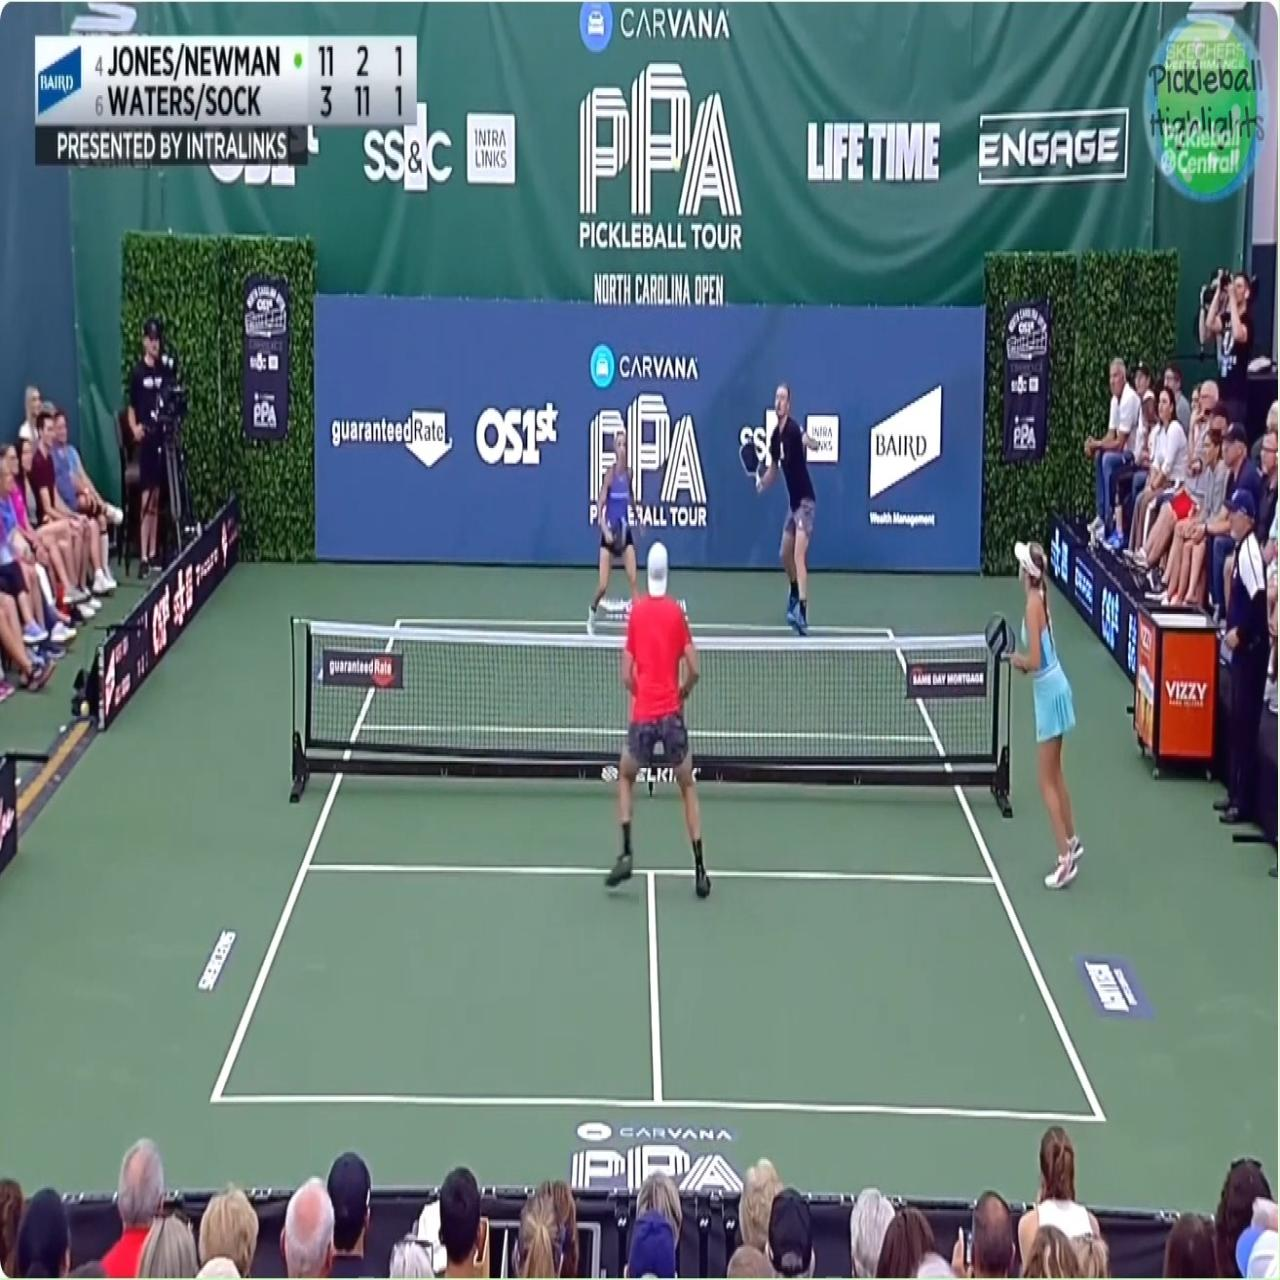pickleball: (673, 157, 681, 171)
